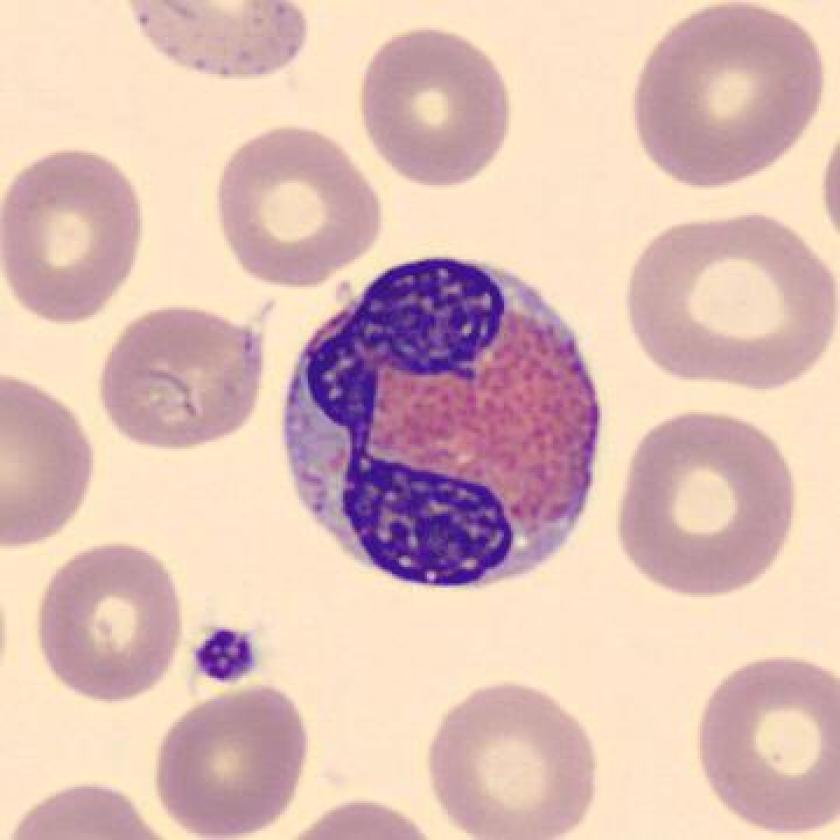eosinophil: (272, 242, 617, 603)
